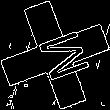M_W: (23, 25, 87, 85)
